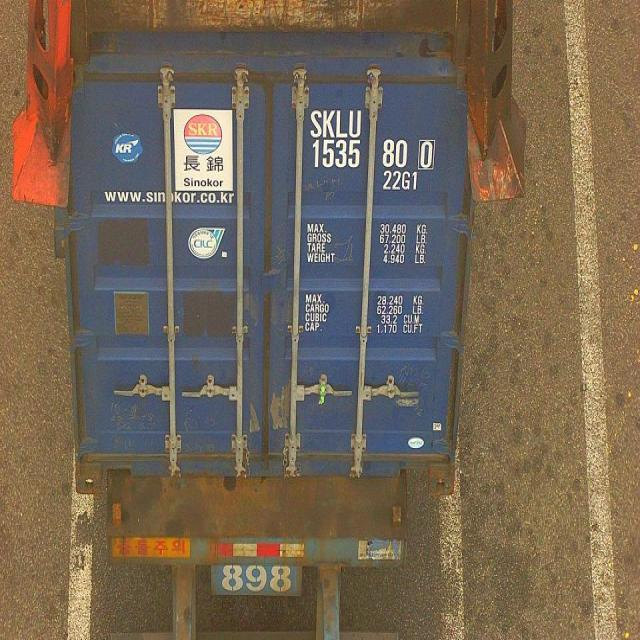ISO: (382, 169, 422, 194)
container_number: (310, 110, 439, 168)
